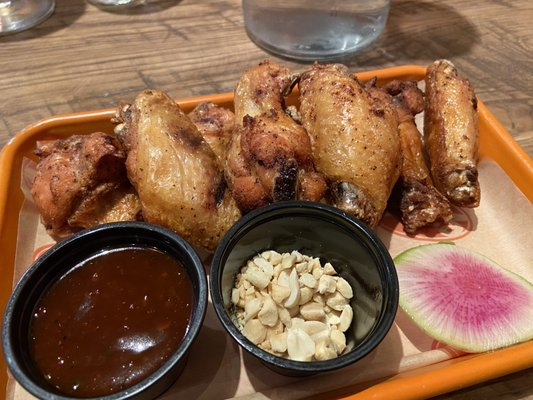soup: (422, 59, 482, 210)
sushi: (2, 222, 209, 400), (208, 201, 401, 377)
